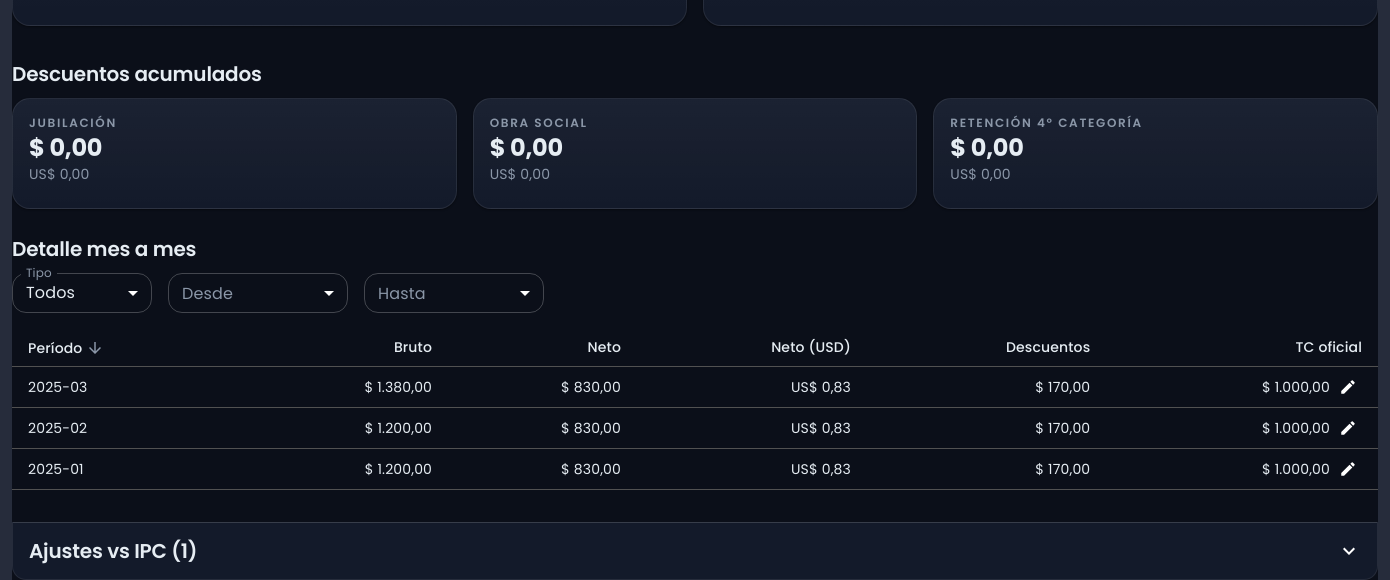
Test: PayslipsPage ajustes por IPC › si falta el IPC de un mes avisa que es parcial y cuál falta
(page scrolled)
Click the button "Ajustes vs IPC (1)". click: coordinates (105, 551)
box: [13,523,1377,579]
(page scrolled)
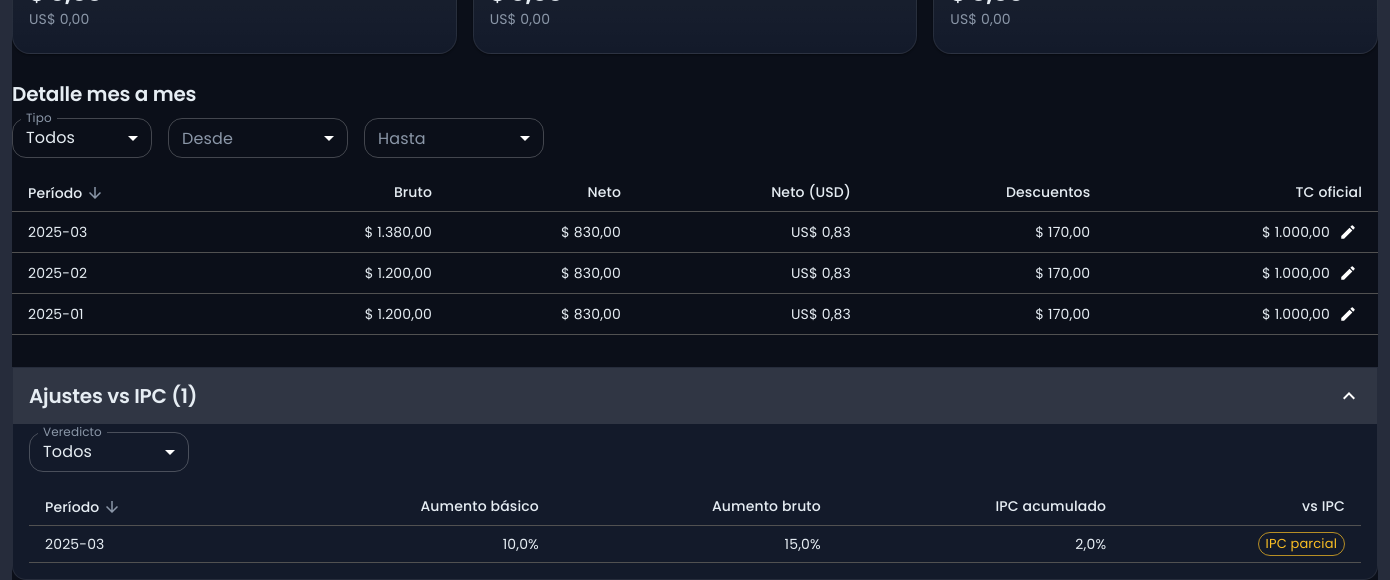
Check: the text "IPC parcial" is shown, box [1266,534,1337,552]
Check: the text titled "IPC de 2025-01 a 2025-02 · falta 2025-02" reads "2,0%", box [1075,534,1106,554]
